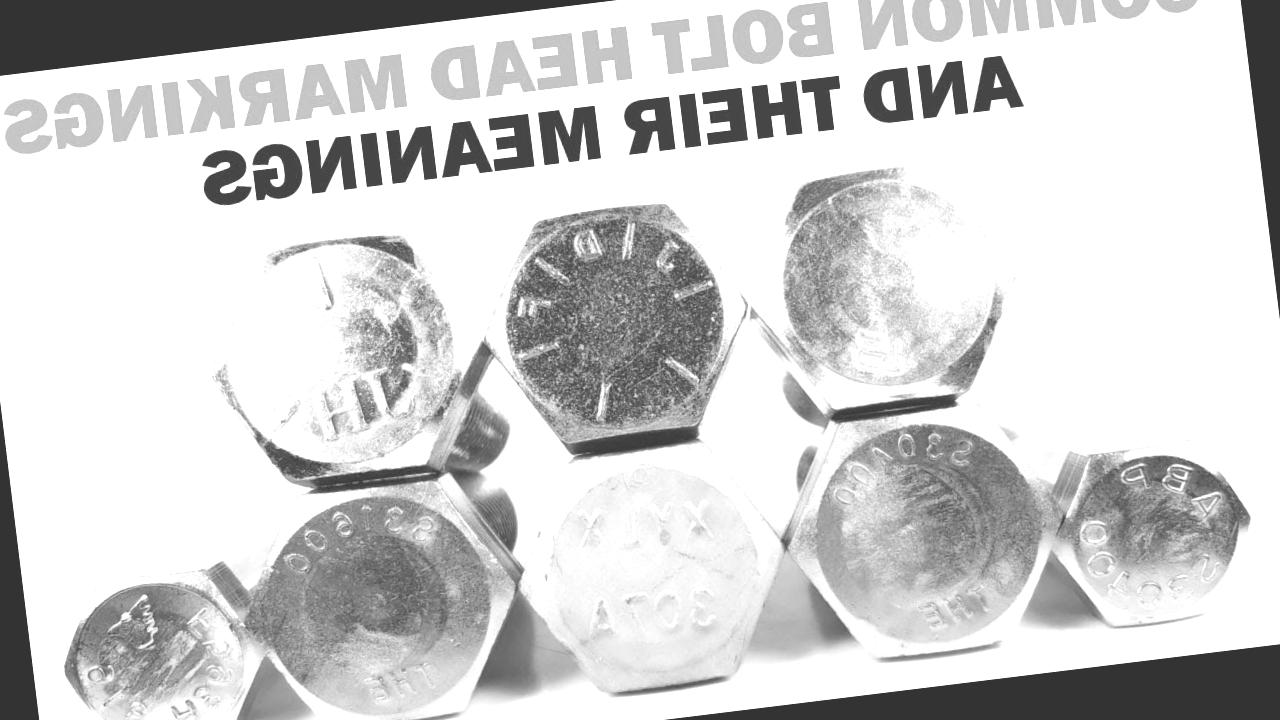hexagonal: (766, 396, 1074, 668), (198, 224, 492, 497), (506, 434, 799, 706), (735, 153, 1033, 420), (230, 467, 535, 720), (471, 192, 762, 451), (1038, 424, 1266, 634), (52, 550, 280, 720)
